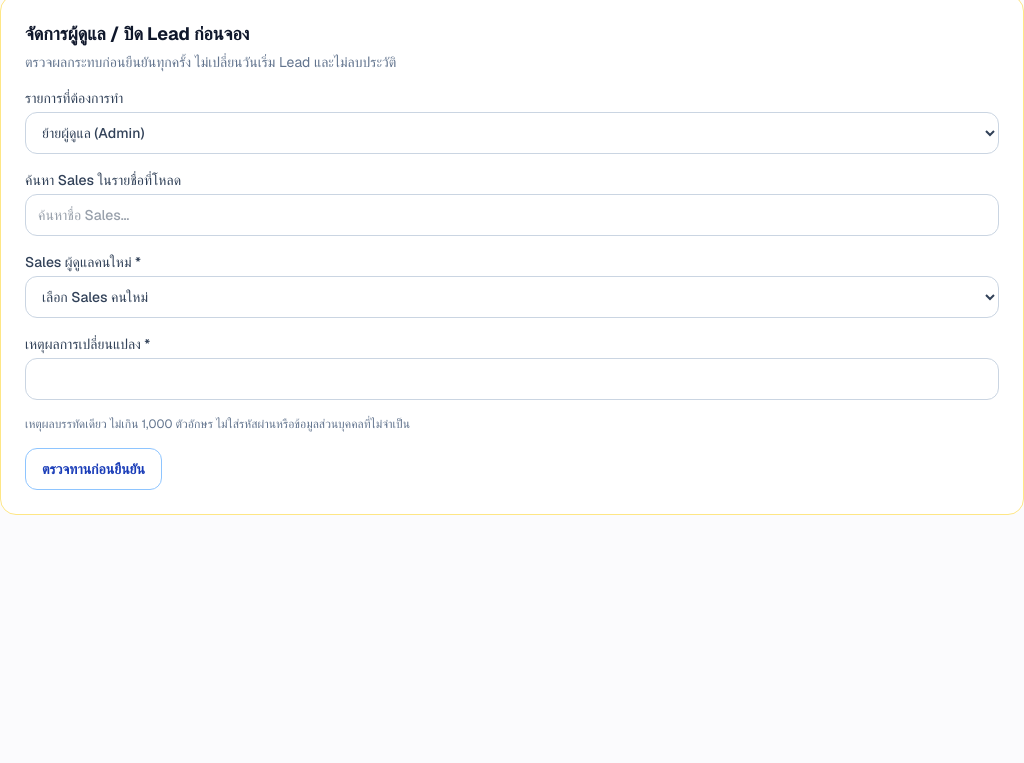
Scenario: lifecycle durable uncertainty › keeps an earlier uncertain receipt frozen after later FORBIDDEN
The image size is (1024, 763).
Select "ฝ่ายขายใหม่" in the dropdown labelled "Sales ผู้ดูแลคนใหม่ *": (512, 297) [25,276,999,318]
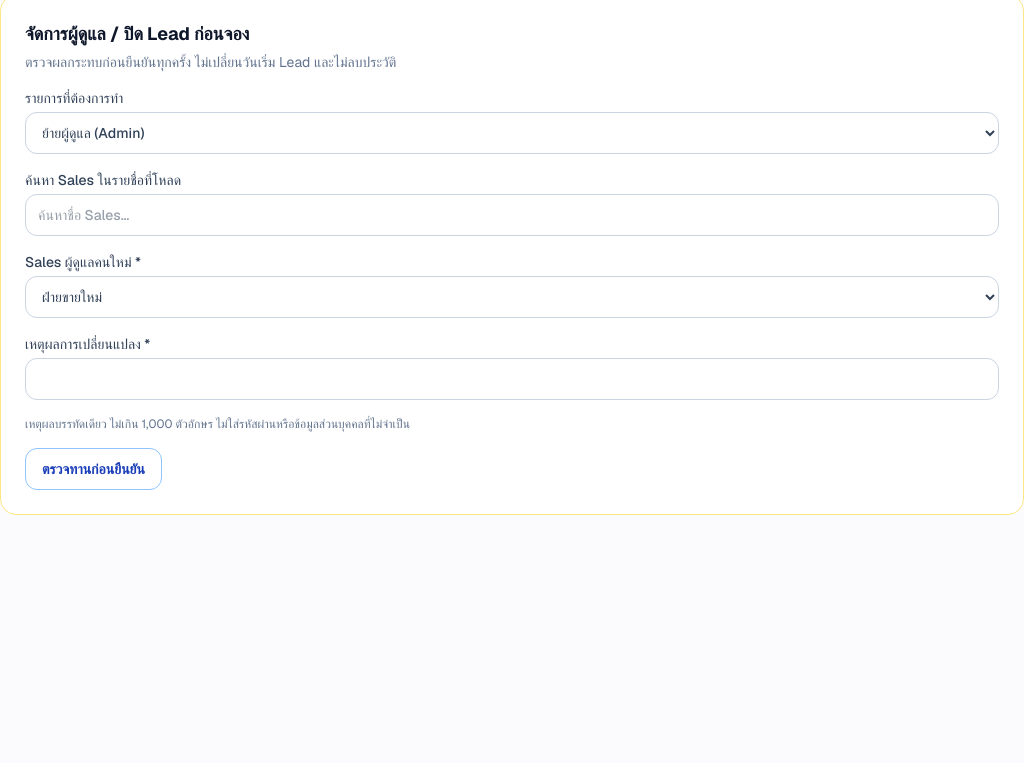
In the field labelled "เหตุผลการเปลี่ยนแปลง *": (512, 379) [25,358,999,400], type "จัดผู้รับผิดชอบใหม่"
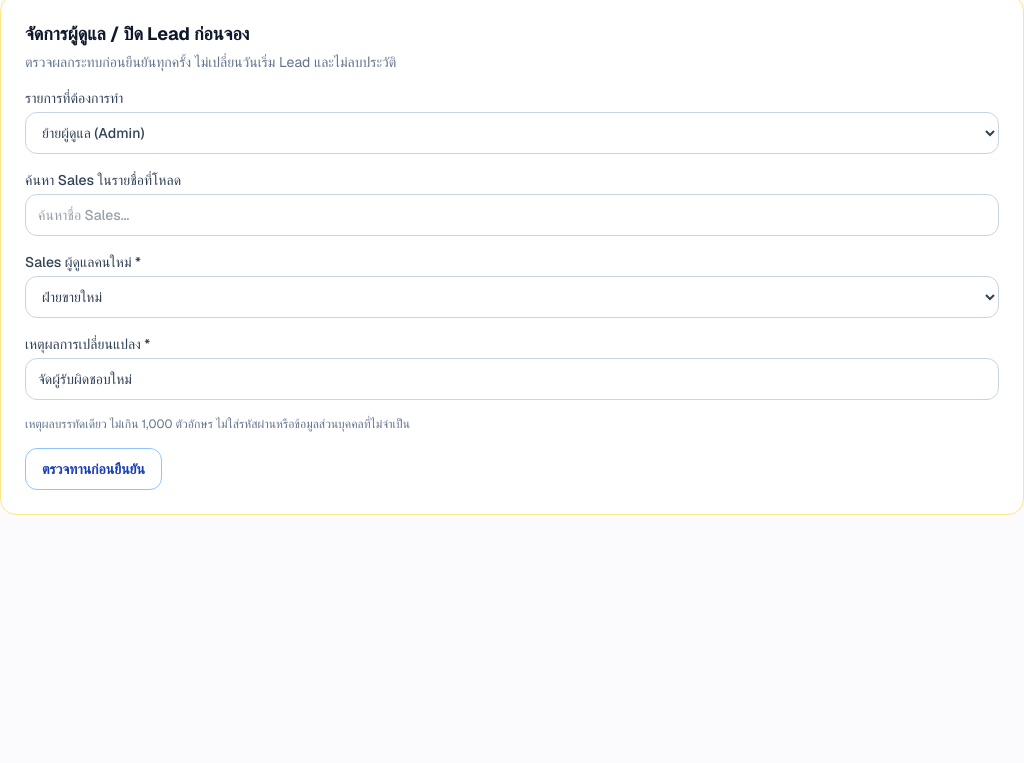
Submit the form named "ตรวจทานการเปลี่ยนแปลง Lead", box [25,88,999,490]
(page scrolled)
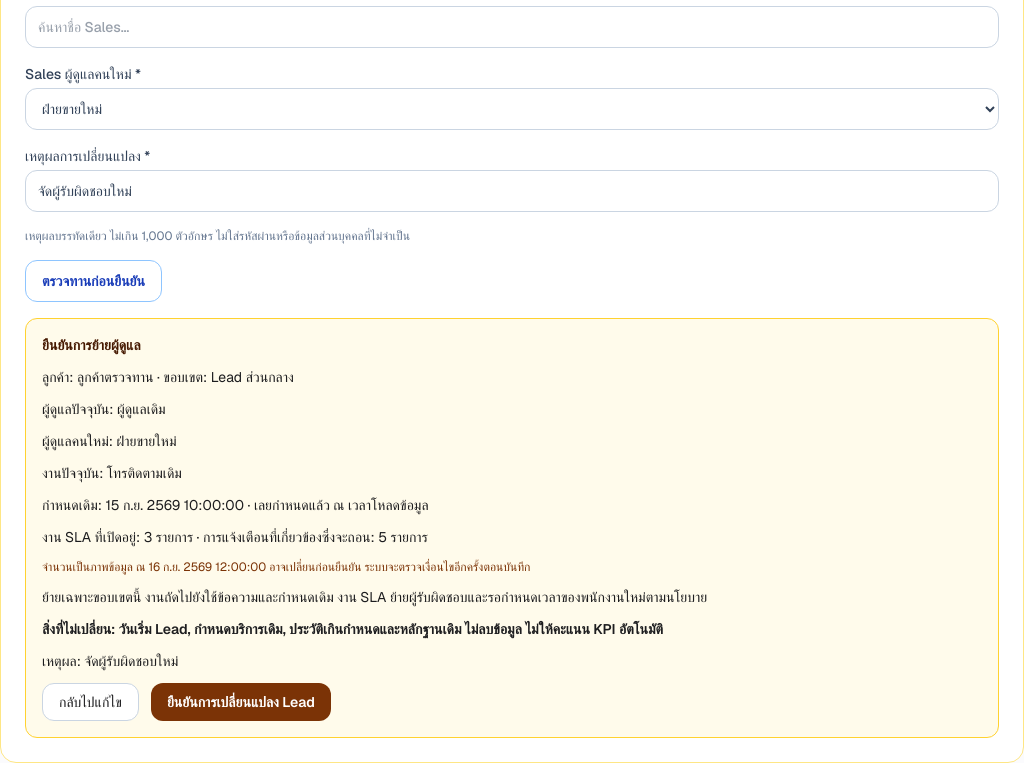
Click the button "ยืนยันการเปลี่ยนแปลง Lead": click(241, 702) [151,683,331,721]
(page scrolled)
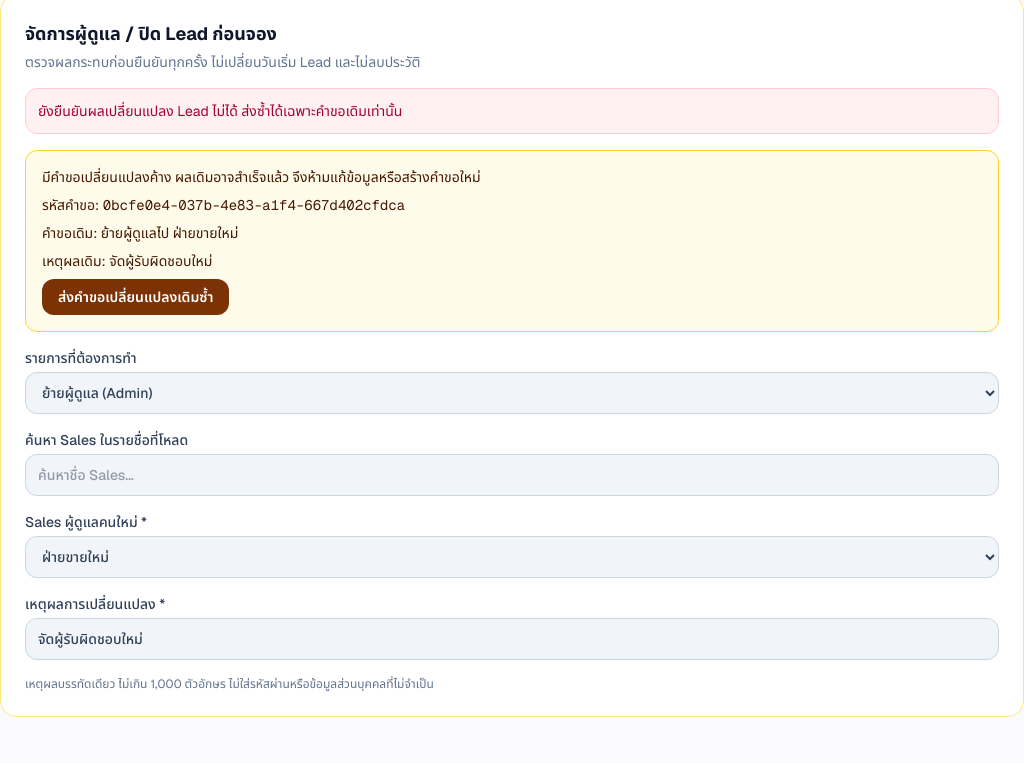
Now the button "ส่งคำขอเปลี่ยนแปลงเดิมซ้ำ" is shown
Click the button "ส่งคำขอเปลี่ยนแปลงเดิมซ้ำ": click(136, 297) [42,279,229,315]
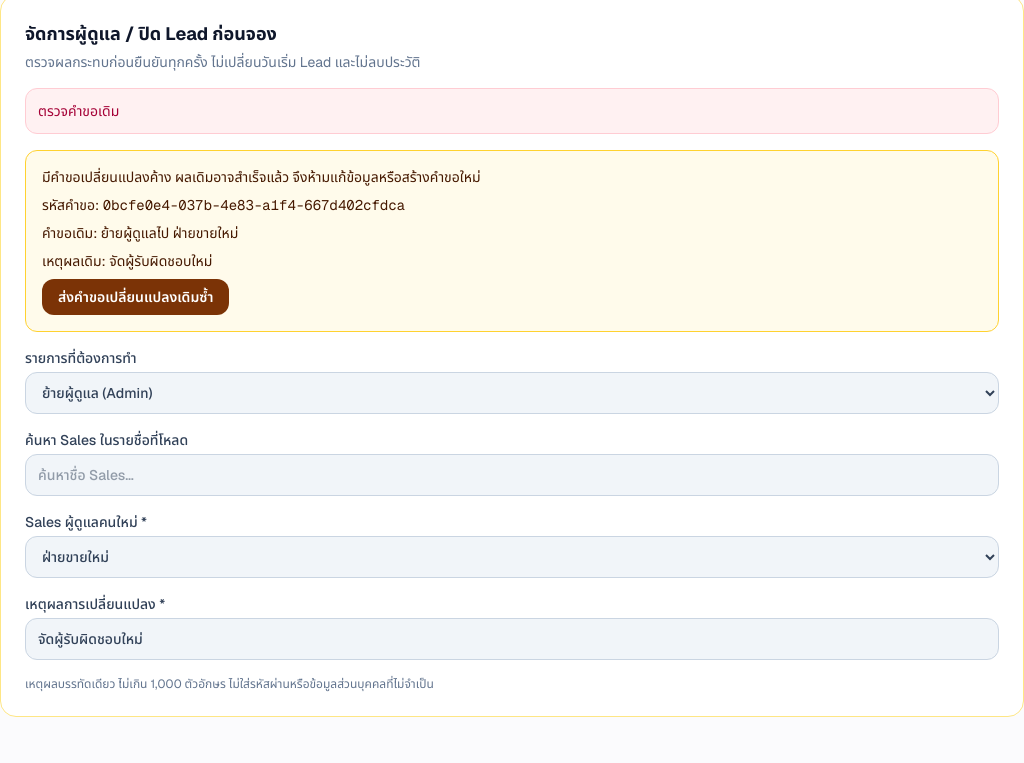
Expected: the field labelled "เหตุผลการเปลี่ยนแปลง *" is disabled, [25,618,999,660]
Now the text "ตรวจคำขอเดิม" is shown, box [25,88,999,134]
